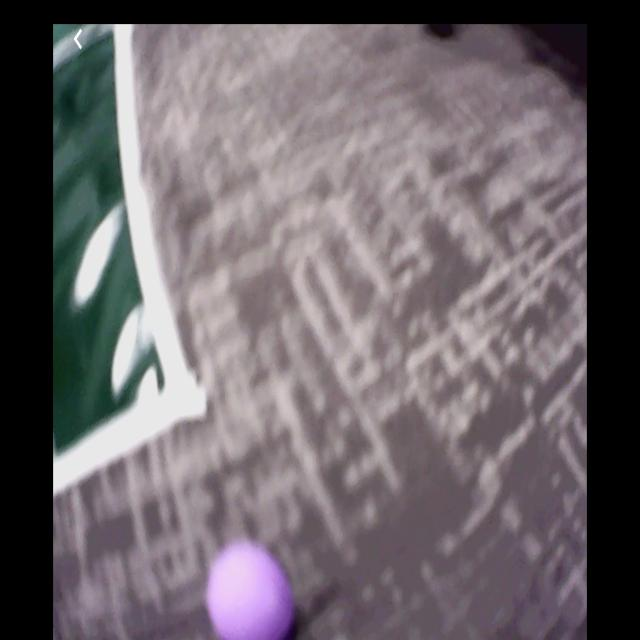ball: (206, 544, 295, 640)
